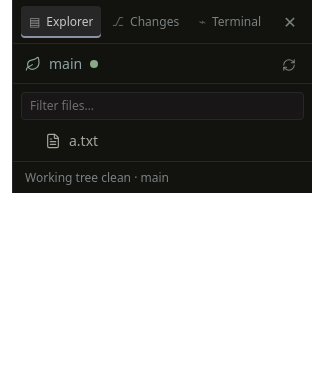
Scenario: ChatRightSidebar explorer tab › clicking changes persists ?sidebar=changes and shows the diff panel
Click the tab with test id "chat-right-sidebar-tab-changes" at (145, 22), box [105, 6, 186, 38]
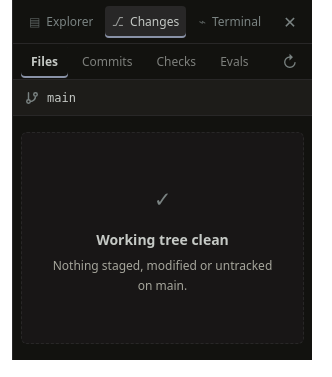
Expected: the element with test id "sidebar-diff-panel" is shown
